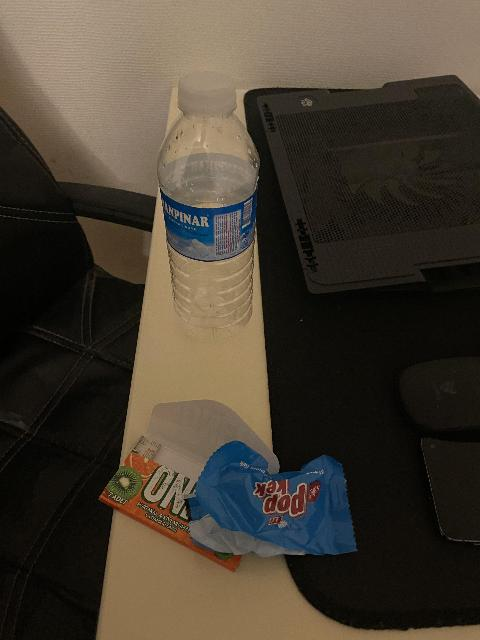Kagit: (108, 419, 194, 535)
Plastik: (160, 75, 262, 333), (202, 459, 352, 559), (160, 198, 262, 265), (176, 79, 240, 113)
